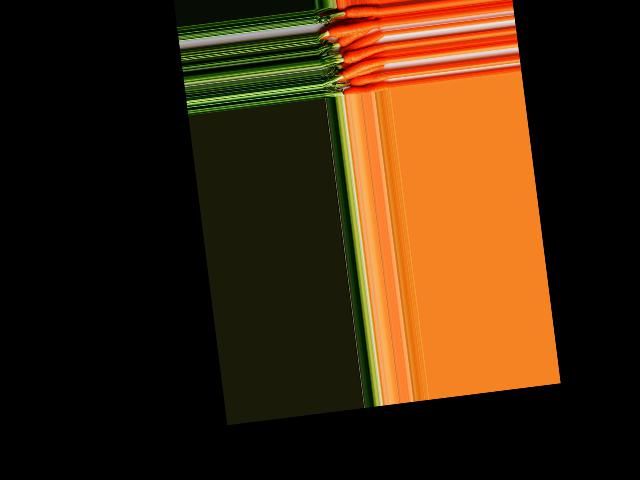carrot: (337, 1, 382, 20)
